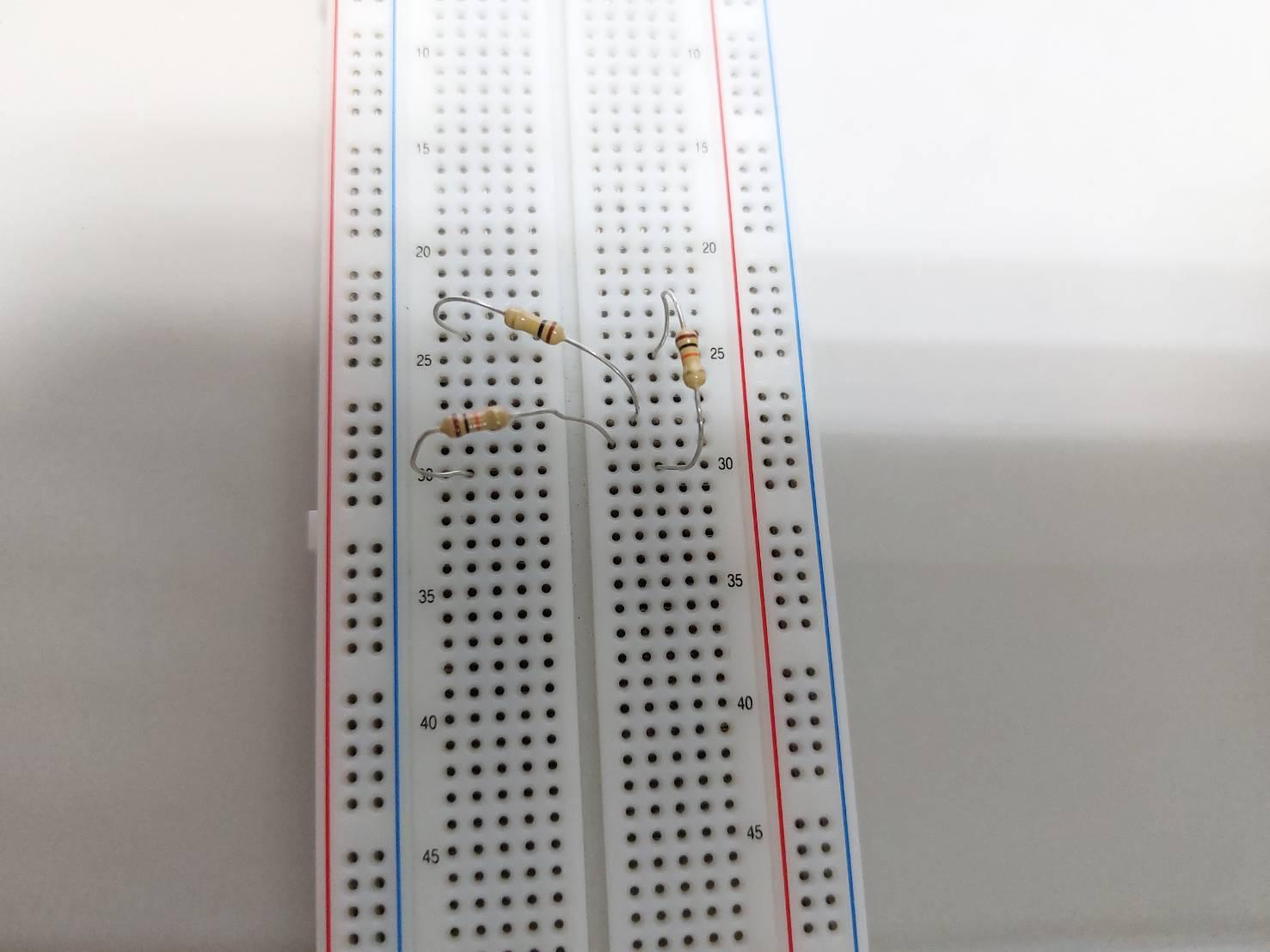resistor: (503, 307, 564, 345), (675, 328, 709, 389), (441, 408, 508, 436)
